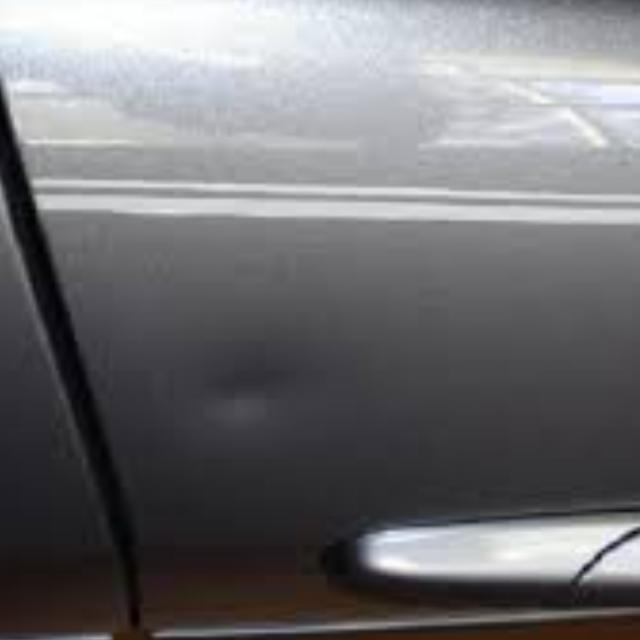dents: (175, 354, 337, 446)
